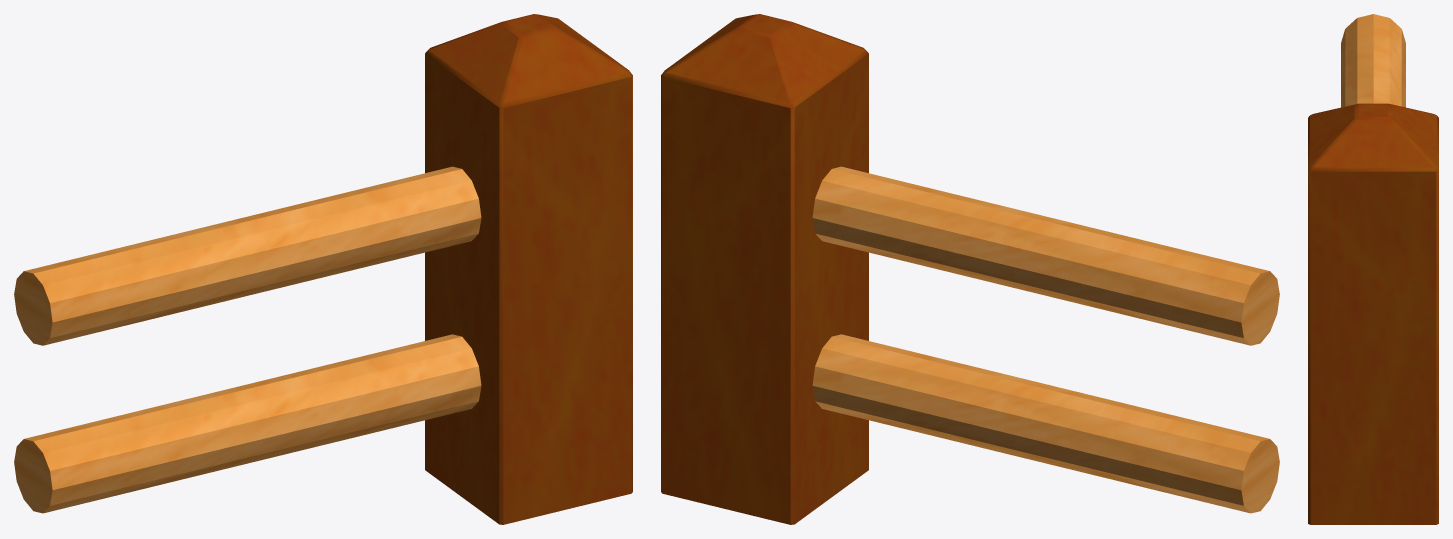
File: FenceSegmentContinuationShort.fbx
3 renders of one model, left to right at view 1: azimuth 30°, elevation 25°; view 2: azimuth 150°, elevation 25°; view 3: azimuth 270°, elevation 25°, orthographic. The views are drawn at different scales.
Visible parts, largest first — view 1: FenceSegmentContinuationShort; view 2: FenceSegmentContinuationShort; view 3: FenceSegmentContinuationShort.
Part boxes in pixels (box(x1,y1,x2,y2)): FenceSegmentContinuationShort: box(14, 14, 632, 524); FenceSegmentContinuationShort: box(661, 14, 1279, 524); FenceSegmentContinuationShort: box(1308, 14, 1438, 524).
Size of the model in its own units: 4.21 by 3.27 by 1.
